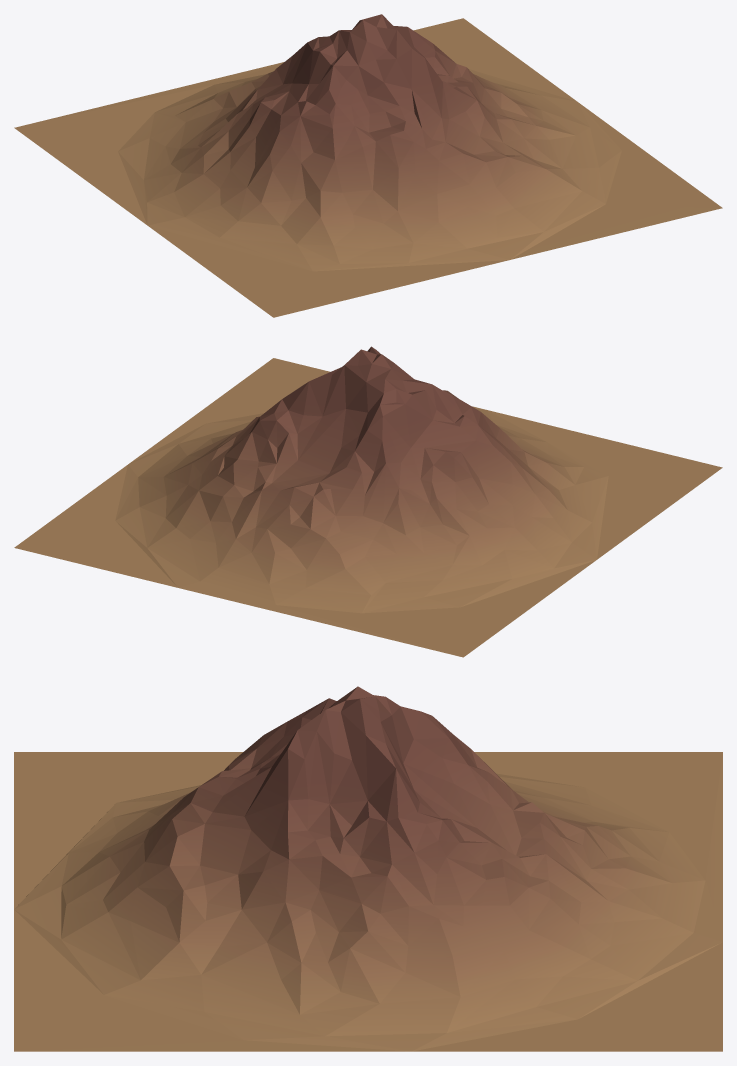
Rendered from Mountains1.fbx.
3 views of the same model, one above another, from view 1: azimuth 30°, elevation 25°; view 2: azimuth 150°, elevation 25°; view 3: azimuth 270°, elevation 25° (orthographic). The views are drawn at different scales.
Visible parts, largest first — view 1: Landscape; view 2: Landscape; view 3: Landscape.
Part boxes in pixels (bbox=[...]): Landscape: bbox=[14, 14, 722, 317]; Landscape: bbox=[14, 346, 722, 657]; Landscape: bbox=[14, 686, 722, 1051].
Bounding box in the file's own units: 3404 × 1112 × 3404.
